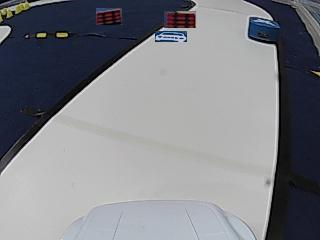prop: (248, 16, 280, 44)
